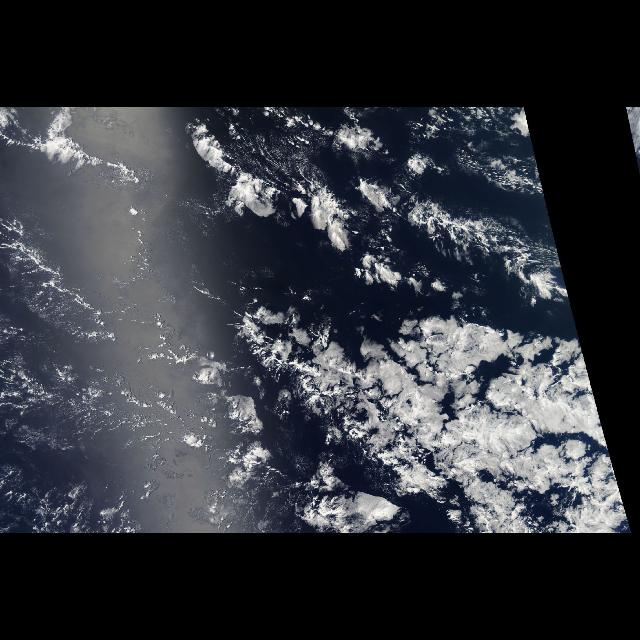Flower: (178, 115, 632, 529), (626, 115, 634, 147)
